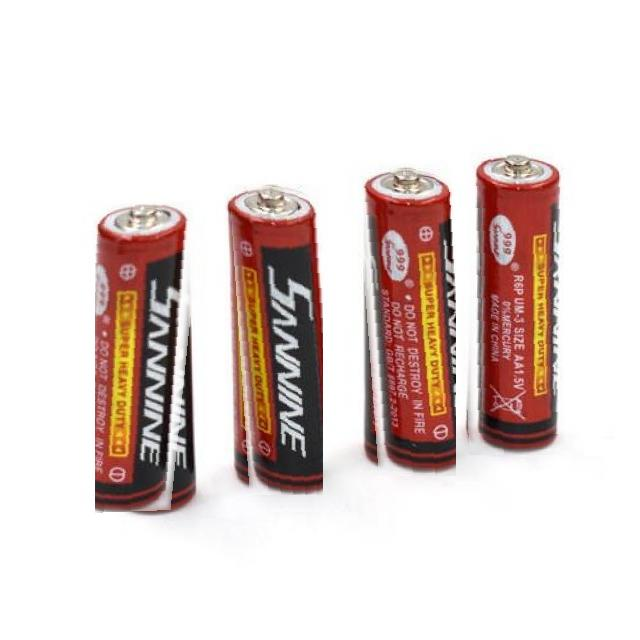battery: (95, 200, 203, 514), (456, 151, 564, 455), (356, 167, 456, 476), (229, 183, 323, 495)
